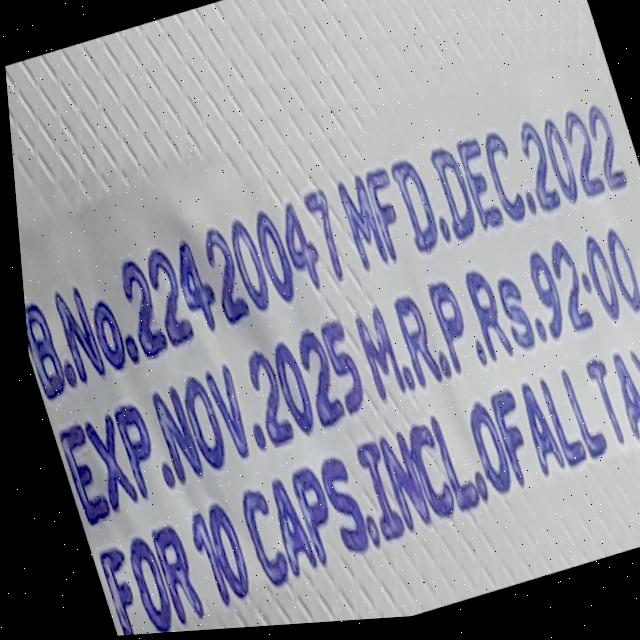sentence: (50, 237, 637, 527), (19, 118, 622, 399), (88, 355, 640, 636)
